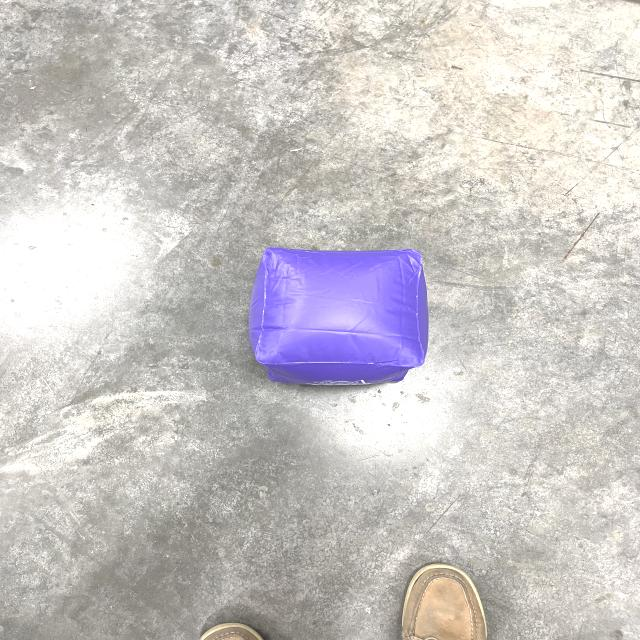frc_cube: (246, 246, 434, 389)
